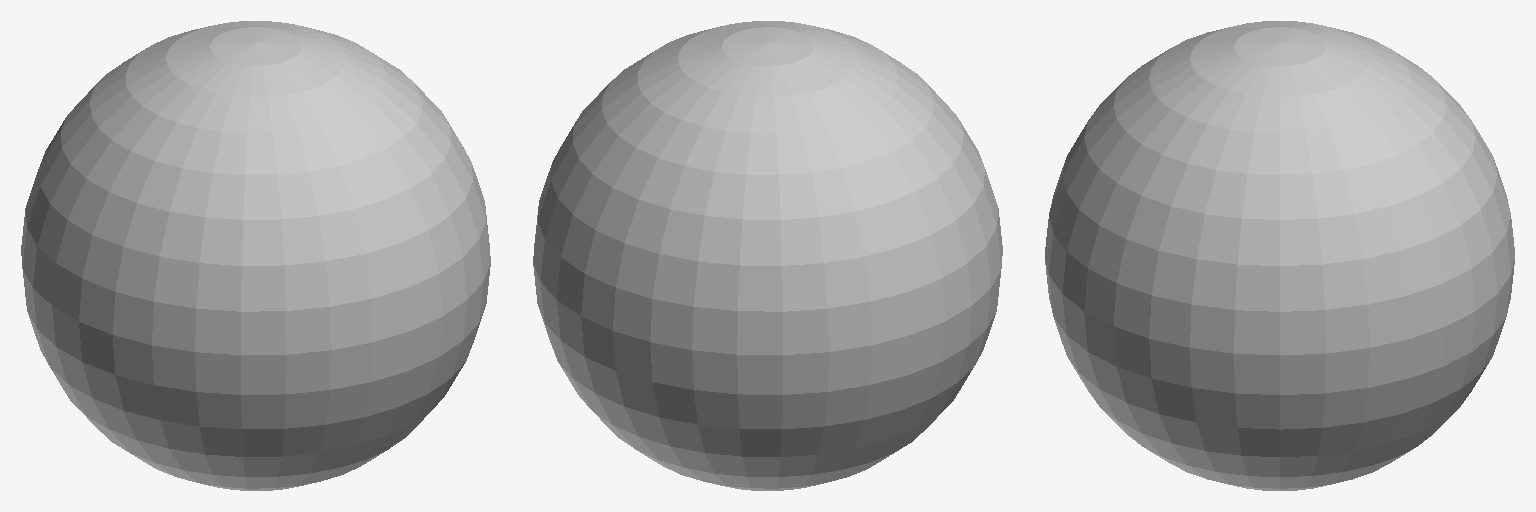
File: Player.obj
The picture shows the model from 3 angles: view 1: azimuth 30°, elevation 25°; view 2: azimuth 150°, elevation 25°; view 3: azimuth 270°, elevation 25°; orthographic projection.
Parts seen in each view (by area): view 1: Sphere; view 2: Sphere; view 3: Sphere.
Part boxes in pixels (left/top/right/bottom): Sphere: left=21, top=21, right=490, bottom=490; Sphere: left=533, top=21, right=1002, bottom=490; Sphere: left=1045, top=21, right=1514, bottom=490.
Bounding box in the file's own units: 0.192 × 0.192 × 0.192.